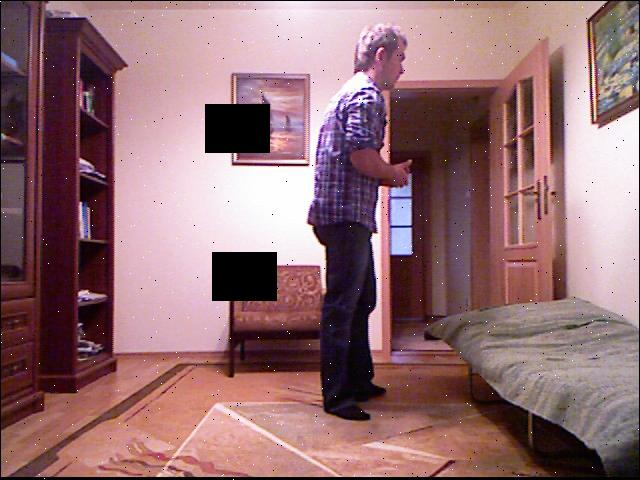standing: (304, 8, 420, 427)
